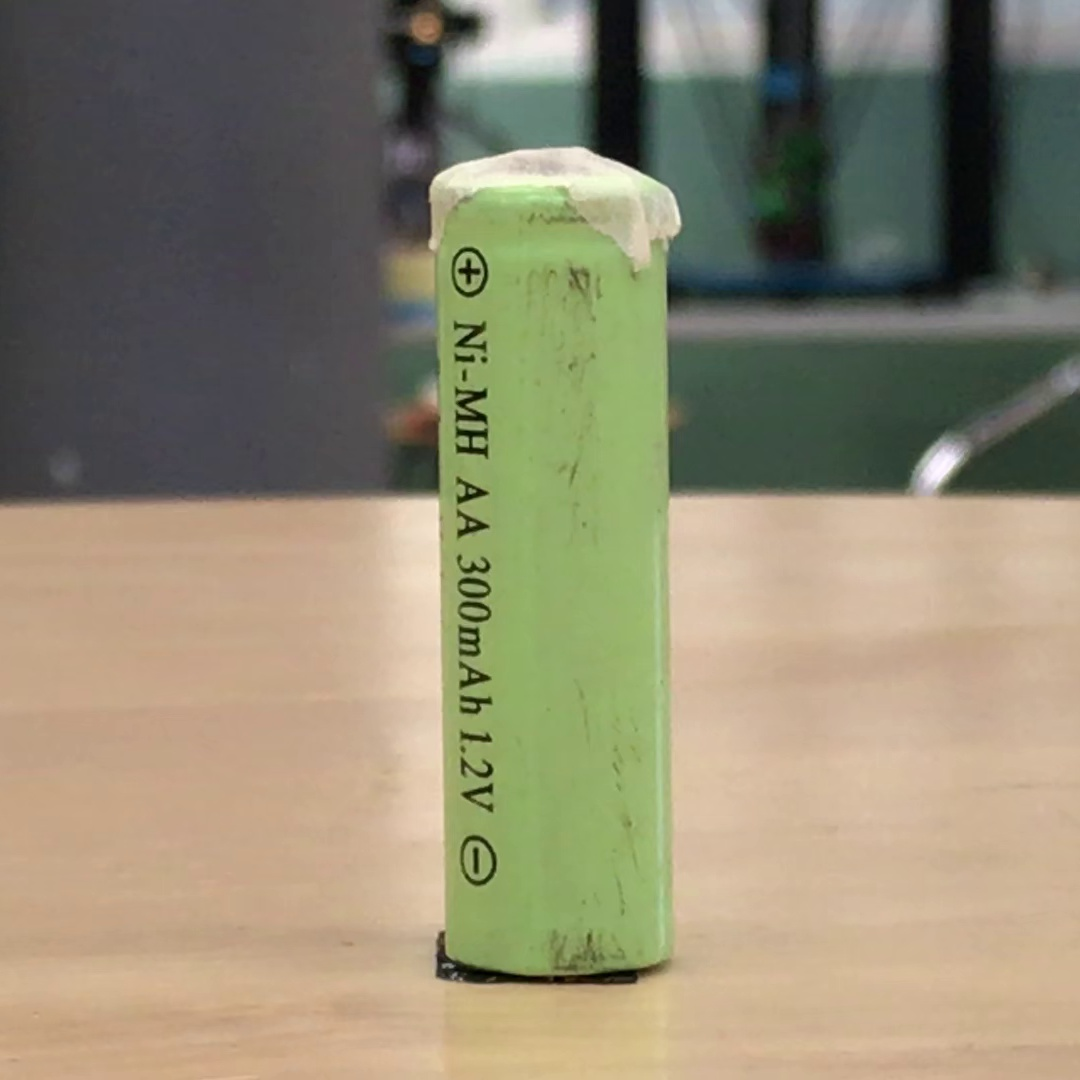keyword: (444, 311, 498, 457)
